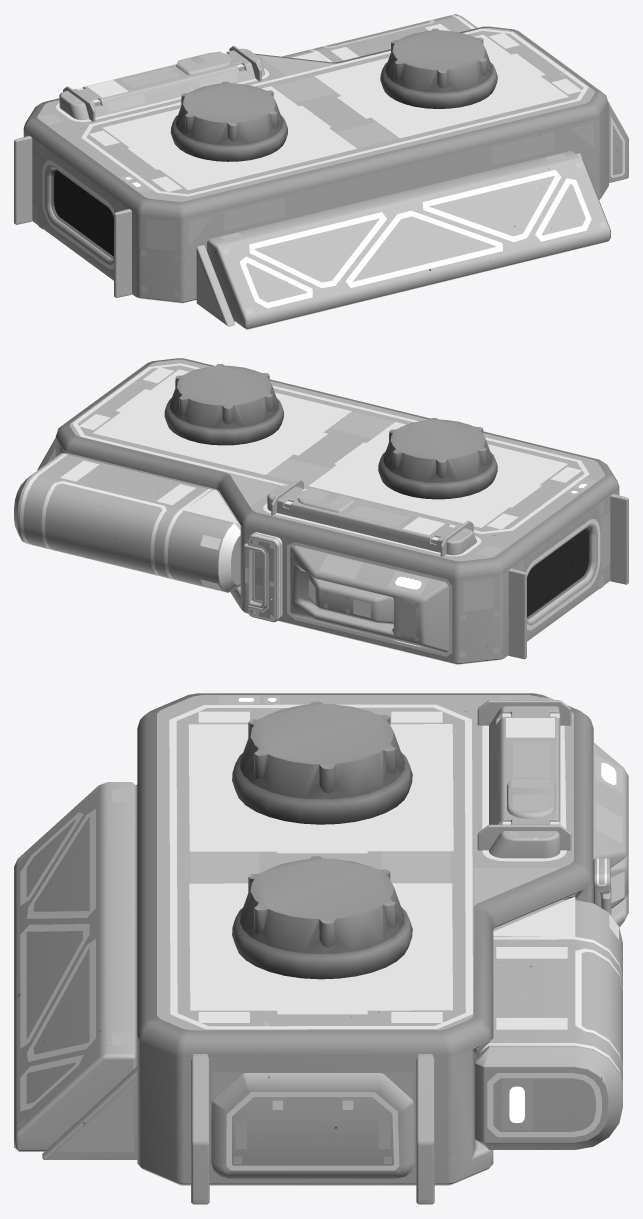
The model's file is SM_VentModule_Merged.fbx.
3 renders of one model, top to bottom at view 1: azimuth 30°, elevation 25°; view 2: azimuth 150°, elevation 25°; view 3: azimuth 270°, elevation 25°, orthographic. The views are drawn at different scales.
Parts seen in each view (by area): view 1: SM_VentModule_Merged_LOD0; view 2: SM_VentModule_Merged_LOD0; view 3: SM_VentModule_Merged_LOD0.
Boxes of the visible parts, <box> form: SM_VentModule_Merged_LOD0: <box>14,14,628,329</box>; SM_VentModule_Merged_LOD0: <box>14,358,628,664</box>; SM_VentModule_Merged_LOD0: <box>14,693,628,1204</box>.
Size of the model in its own units: 314 by 214 by 80.91.
